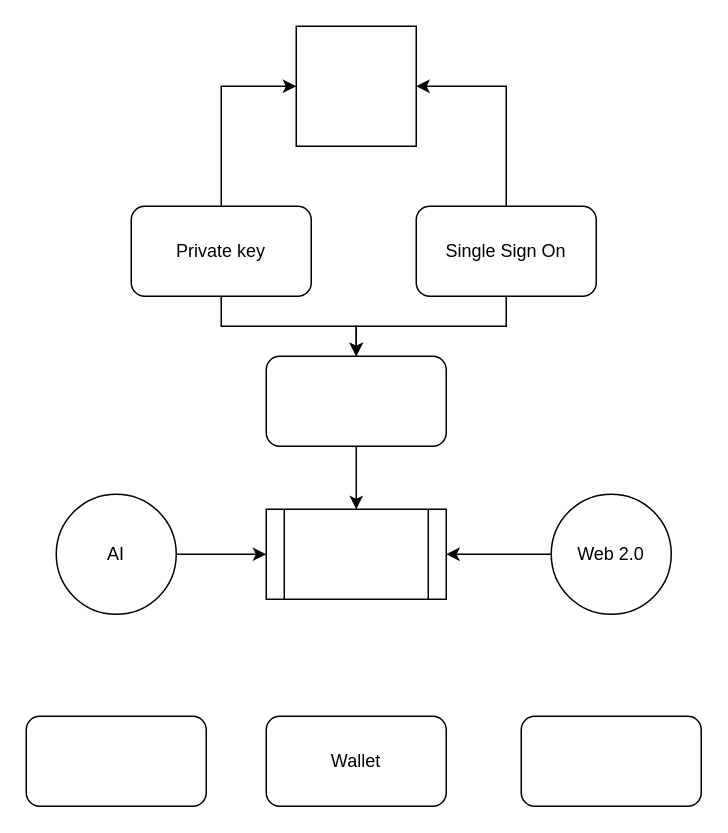
Image size: 728x833. Some labels were removed from this diagram. Each missing label, with the centre of its shape:
"Abstraction" goes at [355,553].
"HSM" goes at [355,85].
"smart contract 4337" goes at [355,400].
